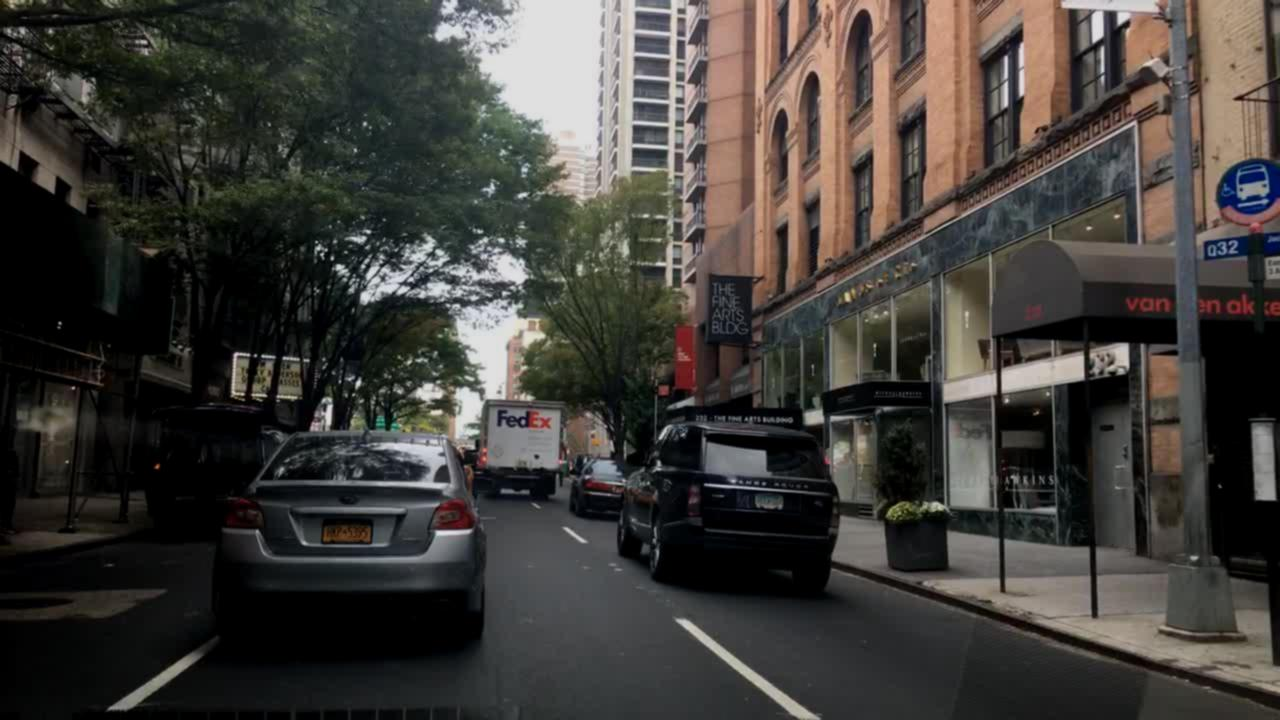range rover: (721, 474, 817, 493)
subaru: (337, 484, 366, 512)
